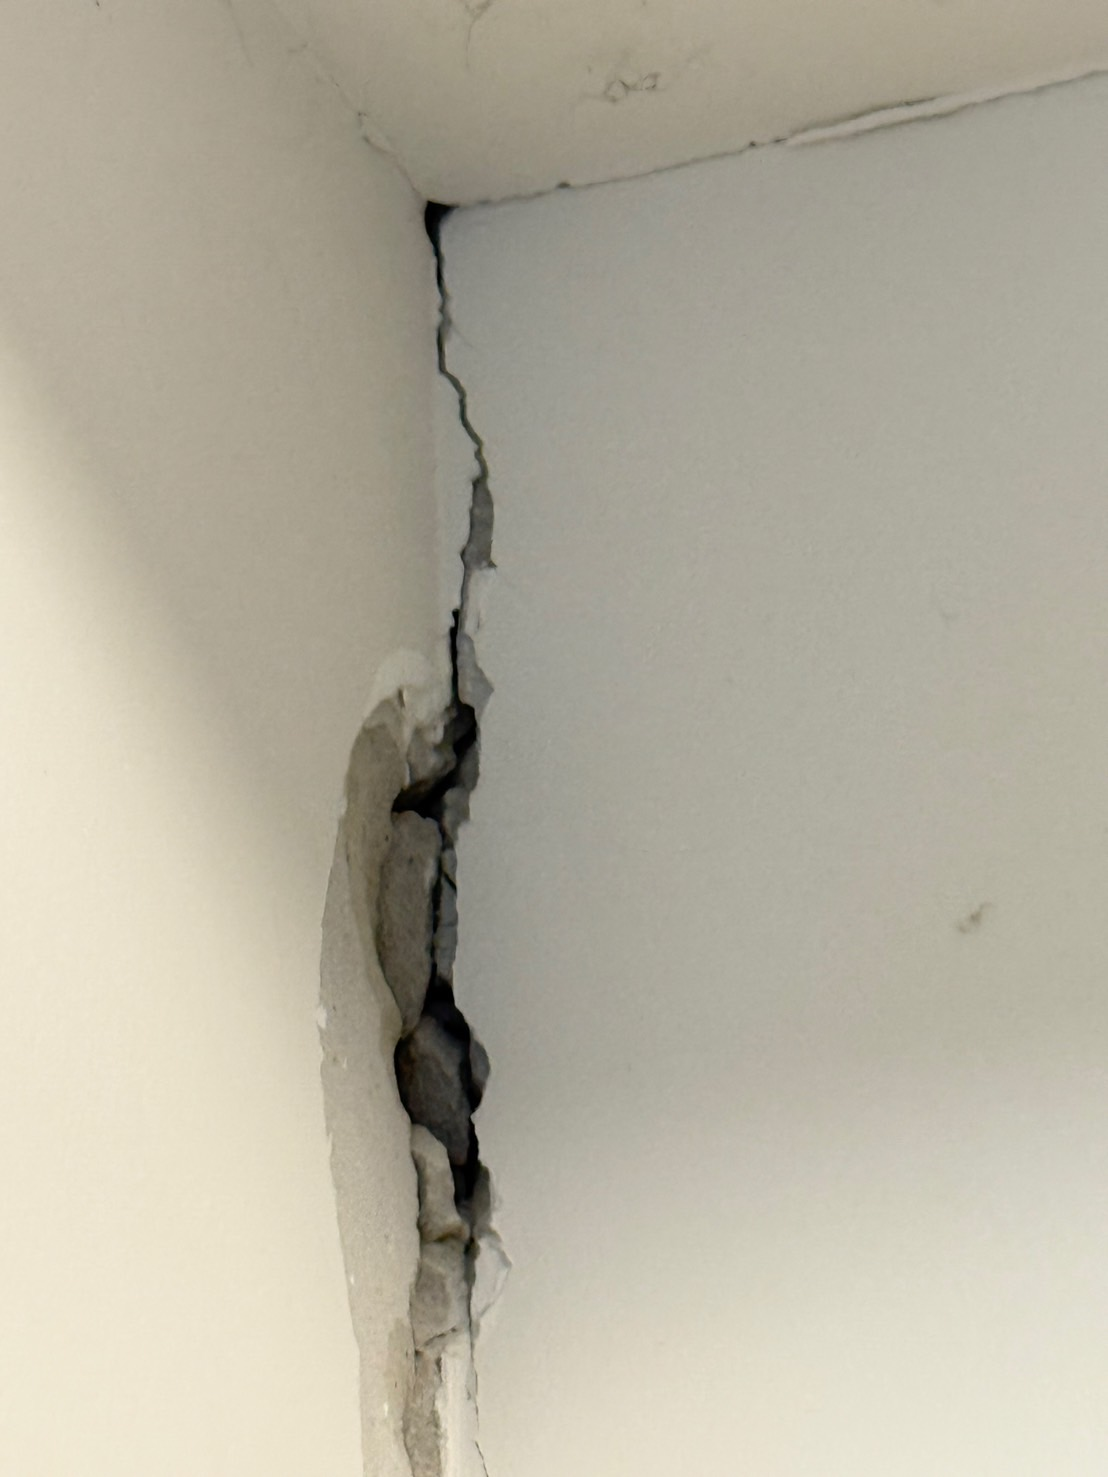Medium: (306, 184, 645, 713)
